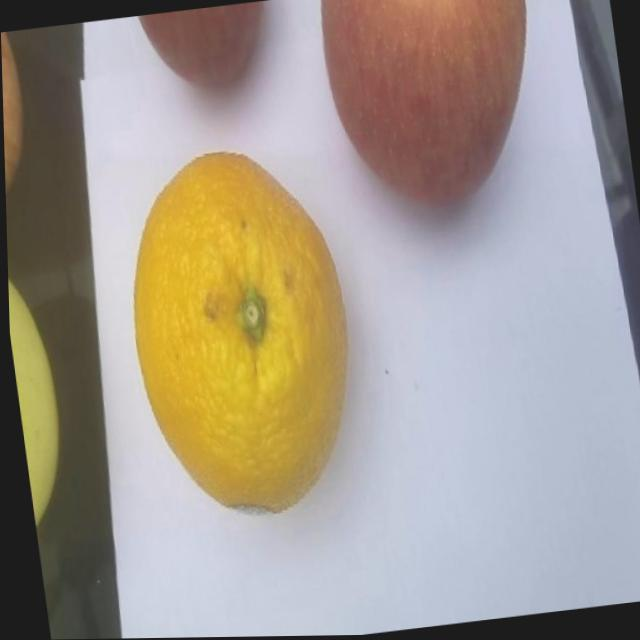Apple: (313, 0, 552, 217), (137, 1, 278, 96), (1, 30, 36, 202)
Orange: (108, 137, 366, 530)
